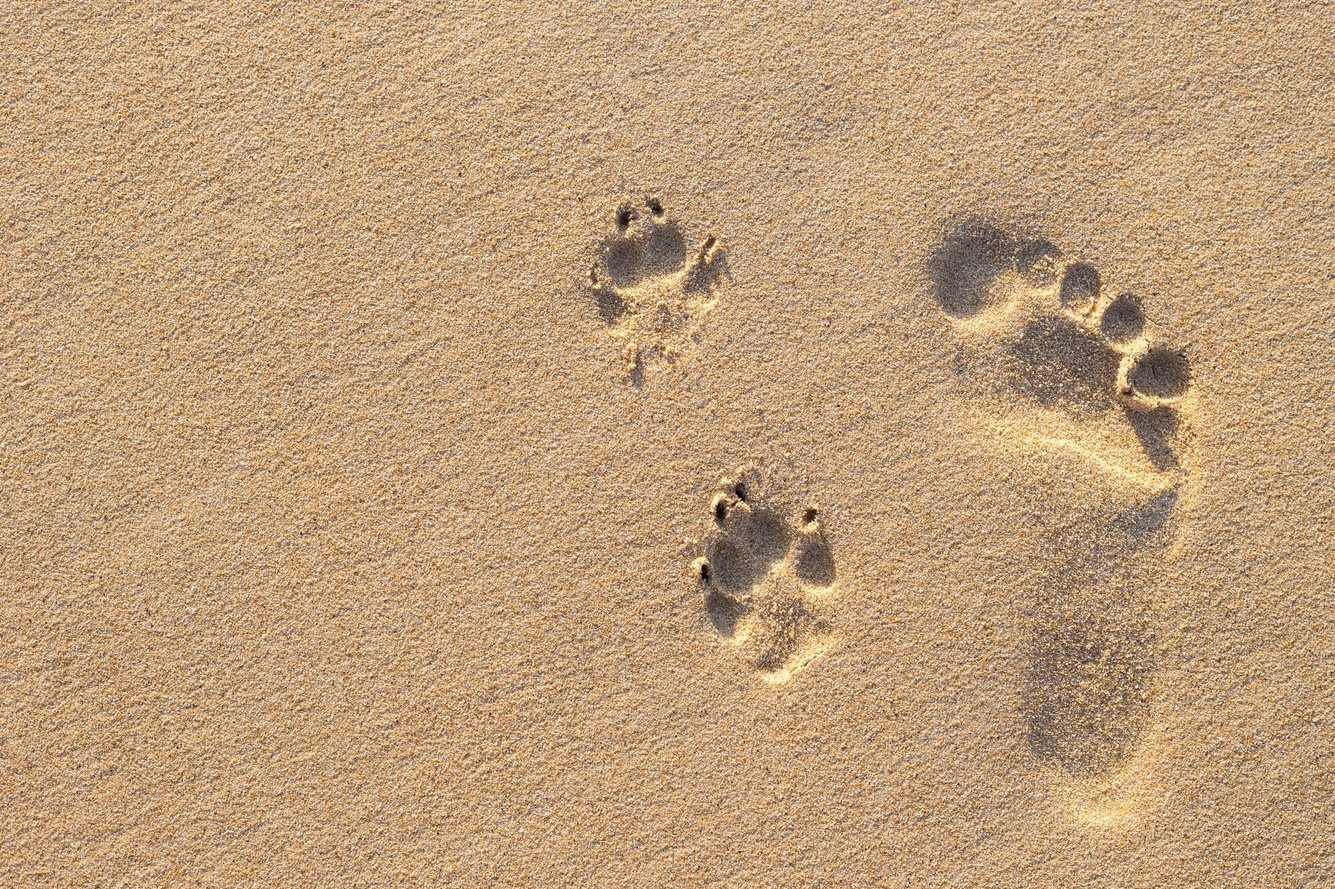human_footprint: (899, 201, 1223, 819), (689, 471, 849, 690), (574, 201, 743, 403)
